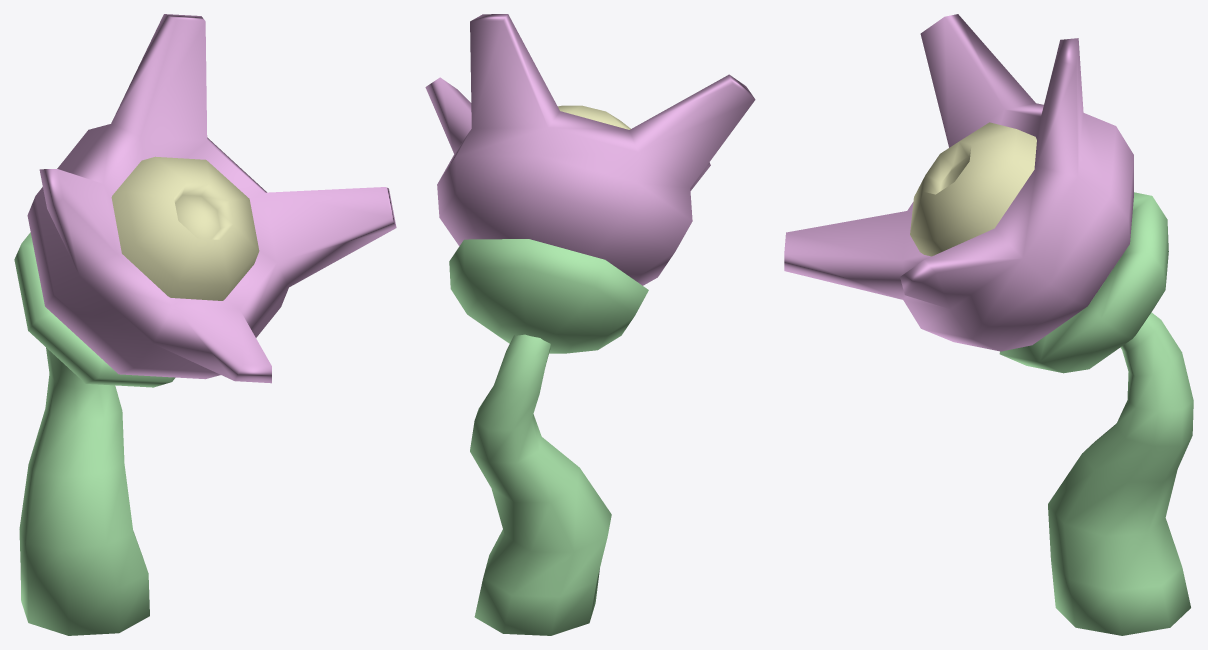
File: Plant2.fbx
The picture shows the model from 3 angles, left to right: view 1: azimuth 30°, elevation 25°; view 2: azimuth 150°, elevation 25°; view 3: azimuth 270°, elevation 25°; orthographic projection. The views are drawn at different scales.
Parts seen in each view (by area): view 1: plant1; view 2: plant1; view 3: plant1.
Part boxes in pixels (bbox=[...]): plant1: bbox=[14, 14, 396, 635]; plant1: bbox=[425, 14, 755, 635]; plant1: bbox=[784, 14, 1193, 635].
Size of the model in its own units: 0.9523 by 1.57 by 0.9741.
